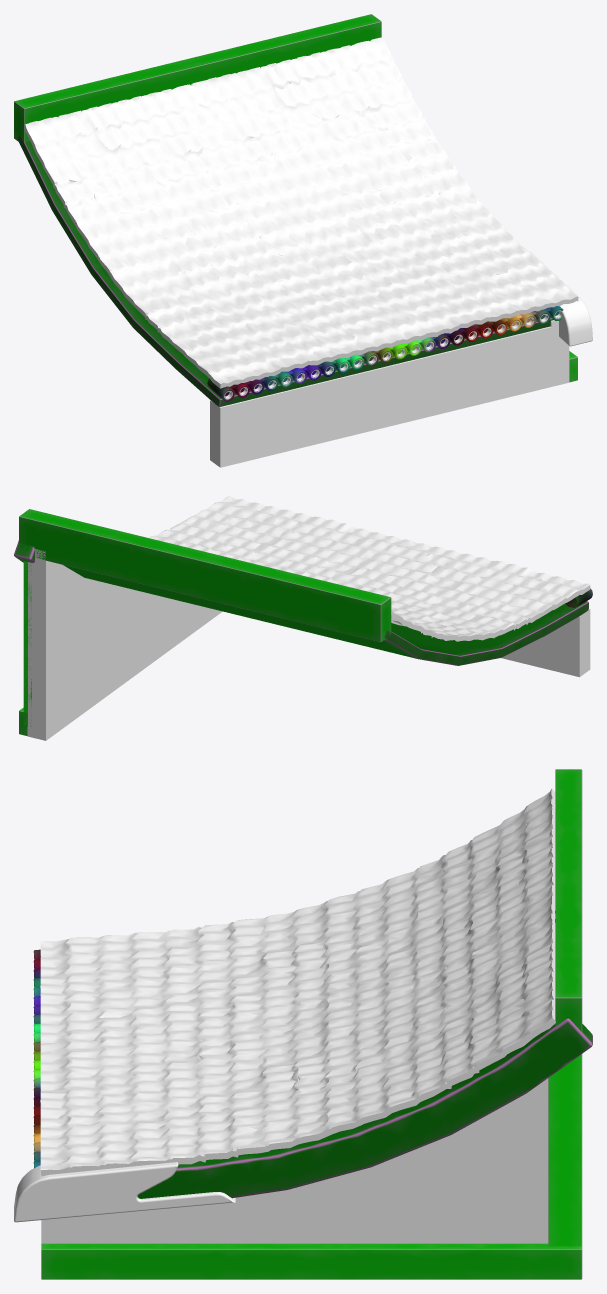
File: roof_side_400x400_01_right.fbx
The picture shows the model from 3 angles, top to bottom: view 1: azimuth 30°, elevation 25°; view 2: azimuth 150°, elevation 25°; view 3: azimuth 270°, elevation 25°; orthographic projection. The views are drawn at different scales.
Parts seen in each view (by area): view 1: roof_side_400x400_01_right; view 2: roof_side_400x400_01_right; view 3: roof_side_400x400_01_right.
Boxes of the visible parts, bbox=[...] form: roof_side_400x400_01_right: bbox=[14, 14, 592, 467]; roof_side_400x400_01_right: bbox=[14, 496, 592, 740]; roof_side_400x400_01_right: bbox=[14, 769, 592, 1279].
Size of the model in its own units: 4.06 by 2.3 by 4.28.
